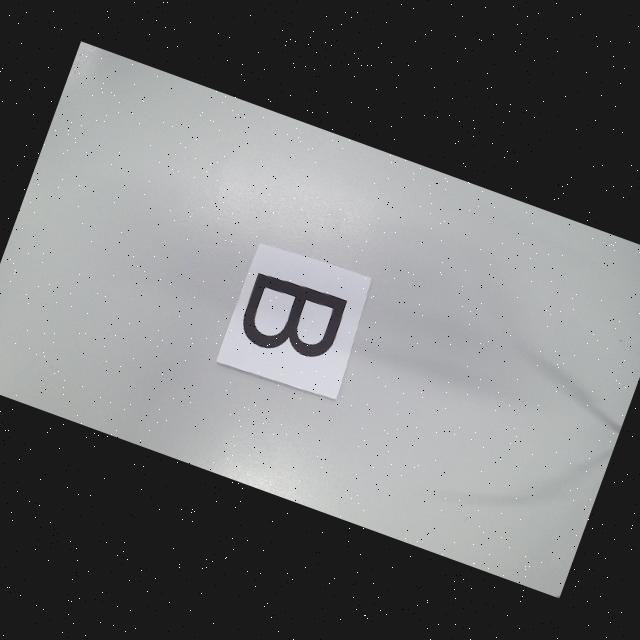FAKE: (234, 268, 349, 370)
